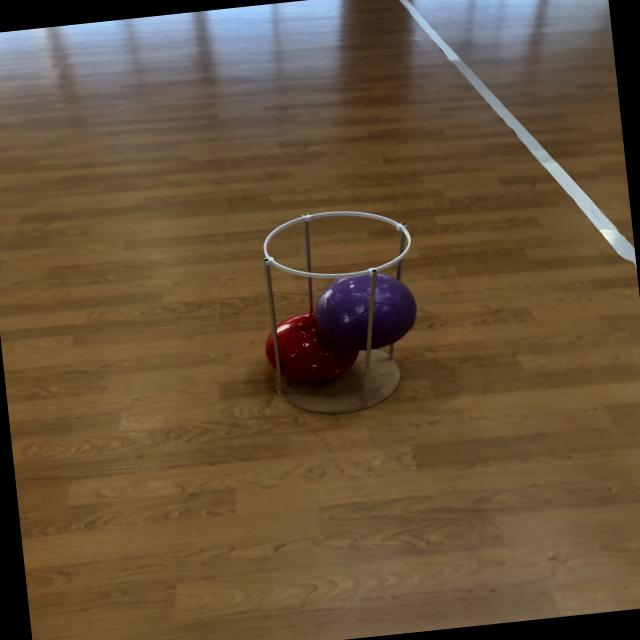purple_ball: (316, 267, 420, 353)
red_ball: (264, 307, 366, 388)
